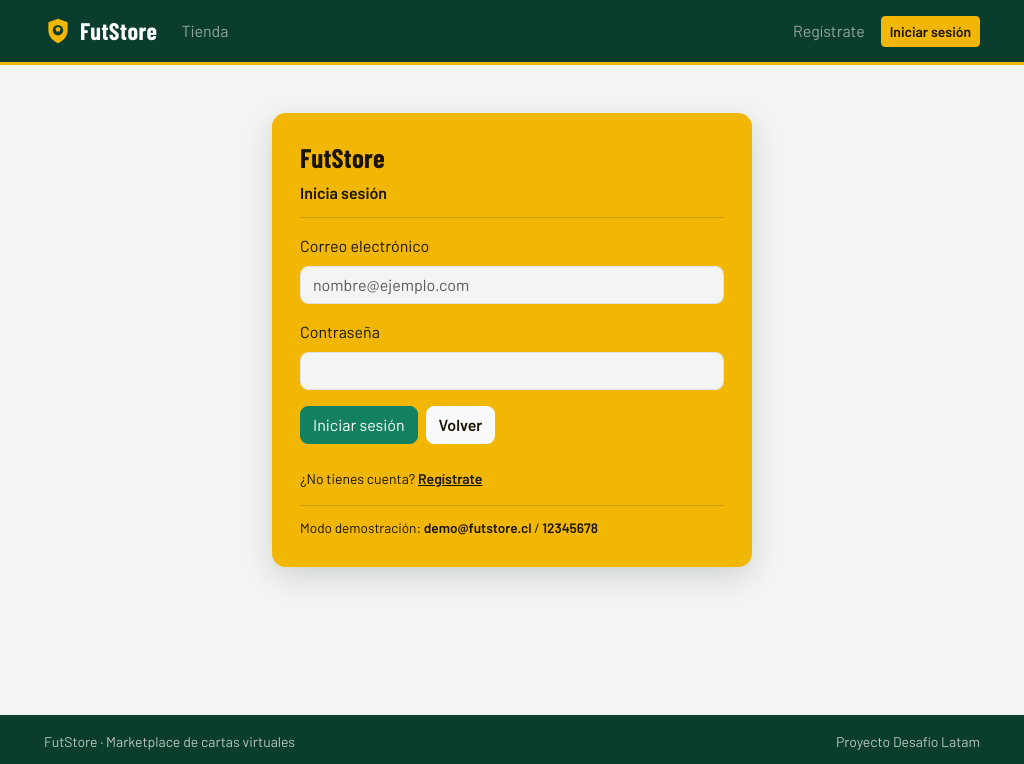
Rutas privadas y sesión (Context) › login correcto lleva a la tienda y guarda la sesión
This screenshot has width=1024, height=764.
Type "demo@futstore.cl" into the field labelled "Correo electrónico" at (512, 285), box [300,266,724,304]
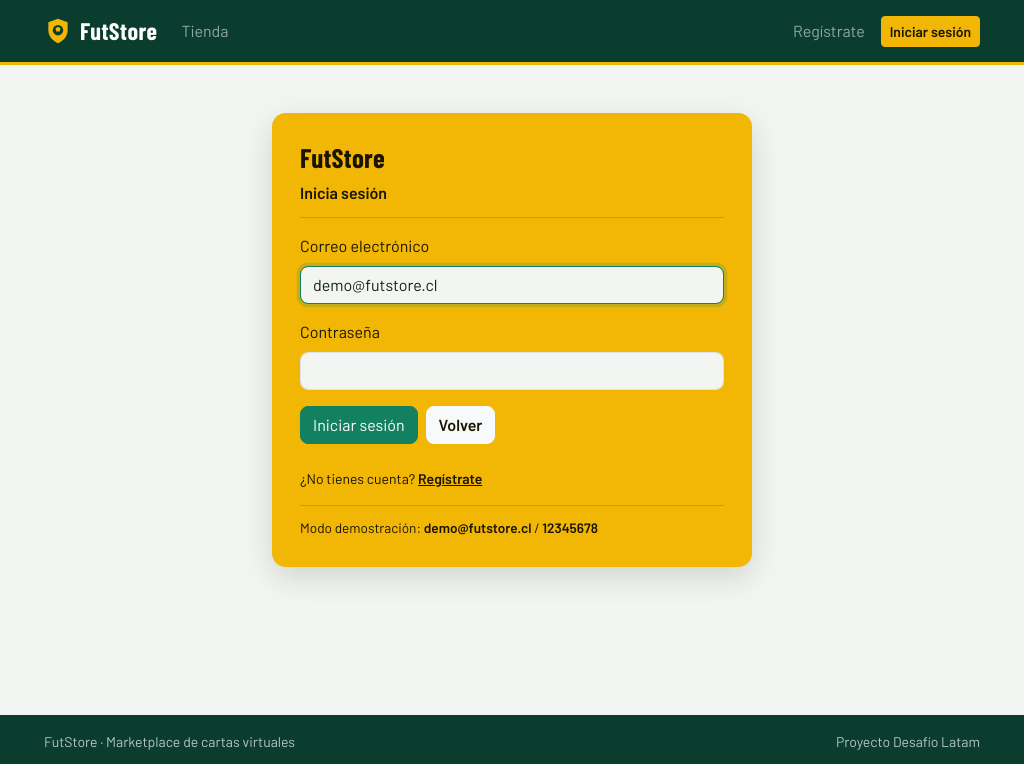
Type "12345678" into the password field labelled "Contraseña" at (512, 371), box [300,352,724,390]
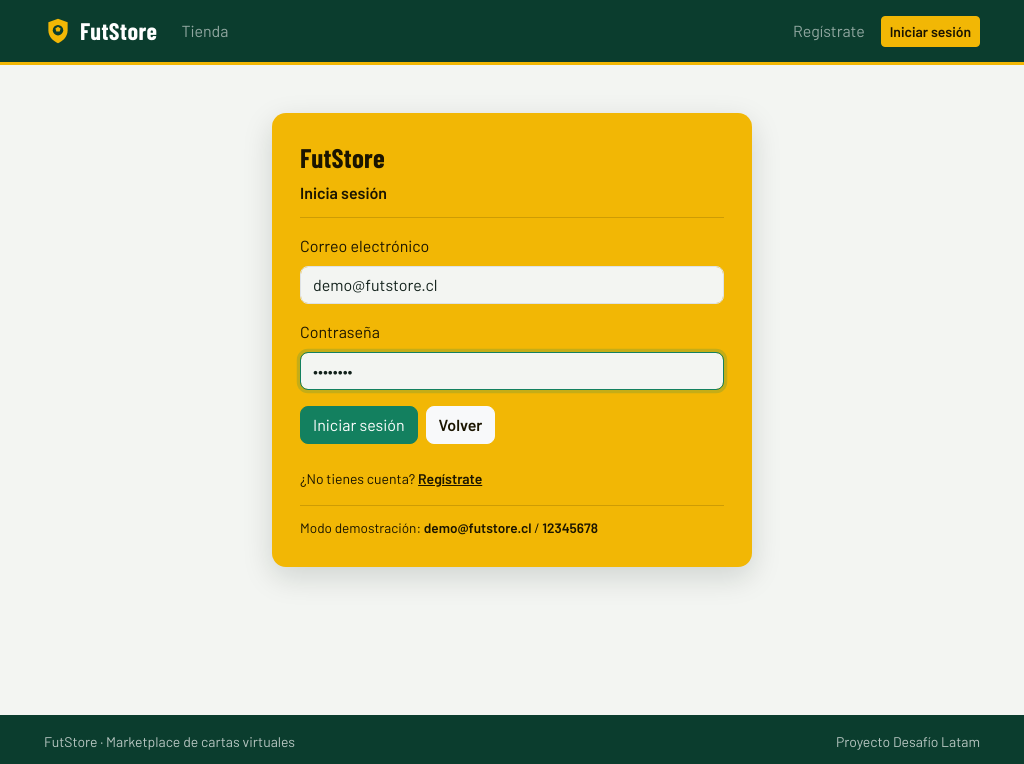
Click the button "Iniciar sesión" below "Contraseña" at (359, 425), box [300,406,418,444]
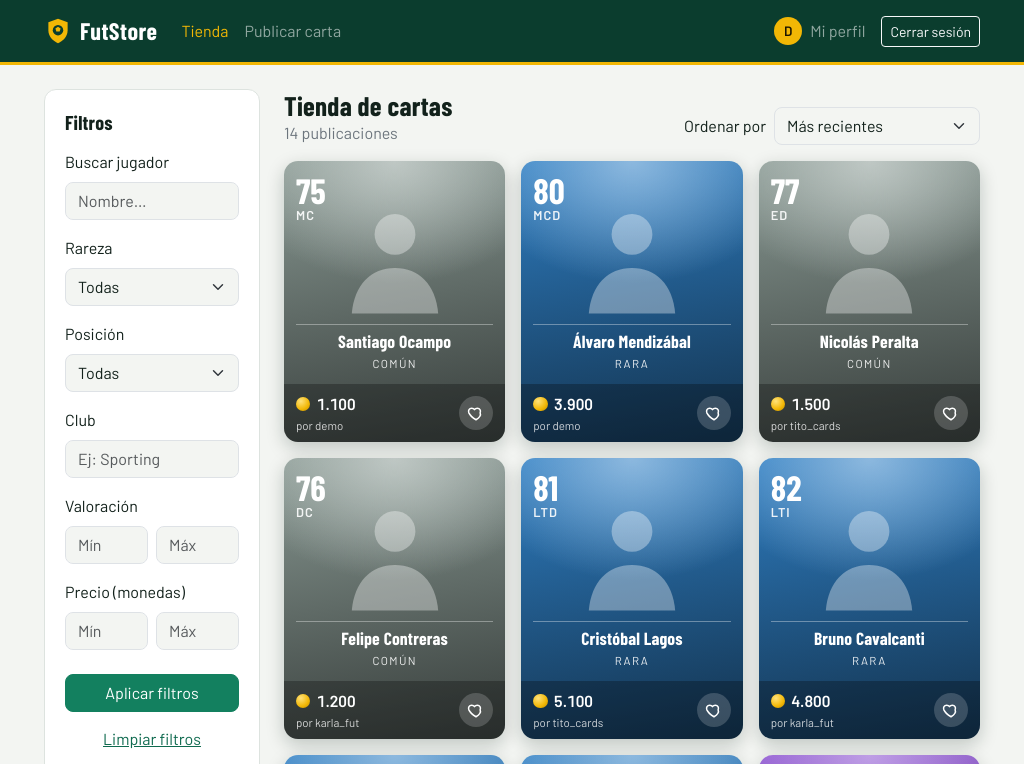
Result: the heading "Tienda de cartas" is shown at [284,89,452,121]
Result: the button "Cerrar sesión" is shown at [881,16,980,46]
